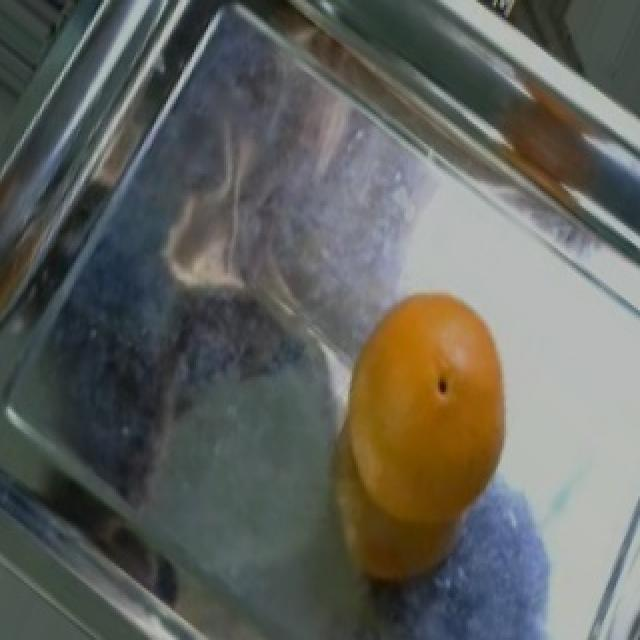Fruit: (308, 273, 534, 608)
